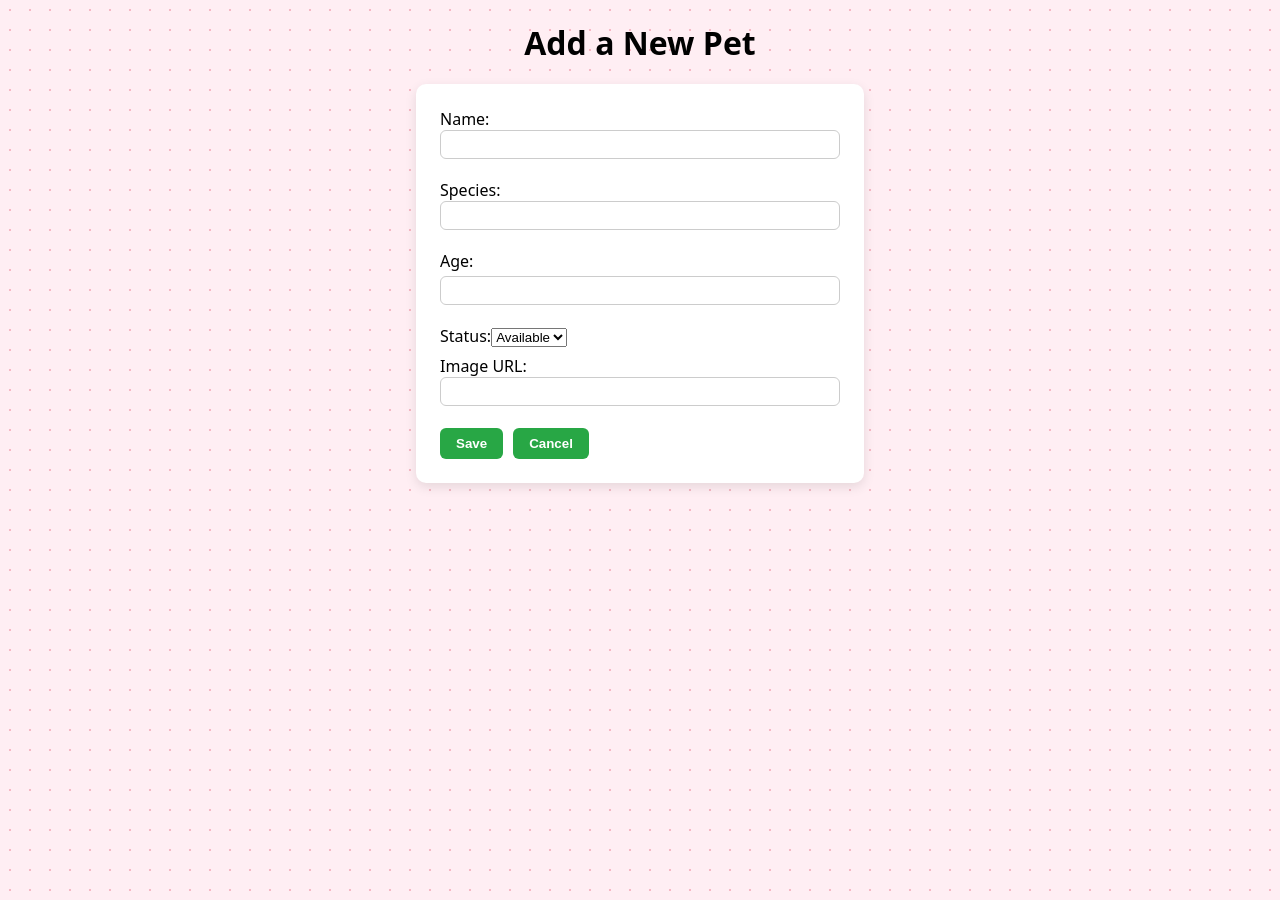
it: AddEditPet Component › shows error when required name field is empty
# Leave name empty
In the field labelled "Species:": (640, 216) top-left (440, 201), bottom-right (840, 230), type "Dog"
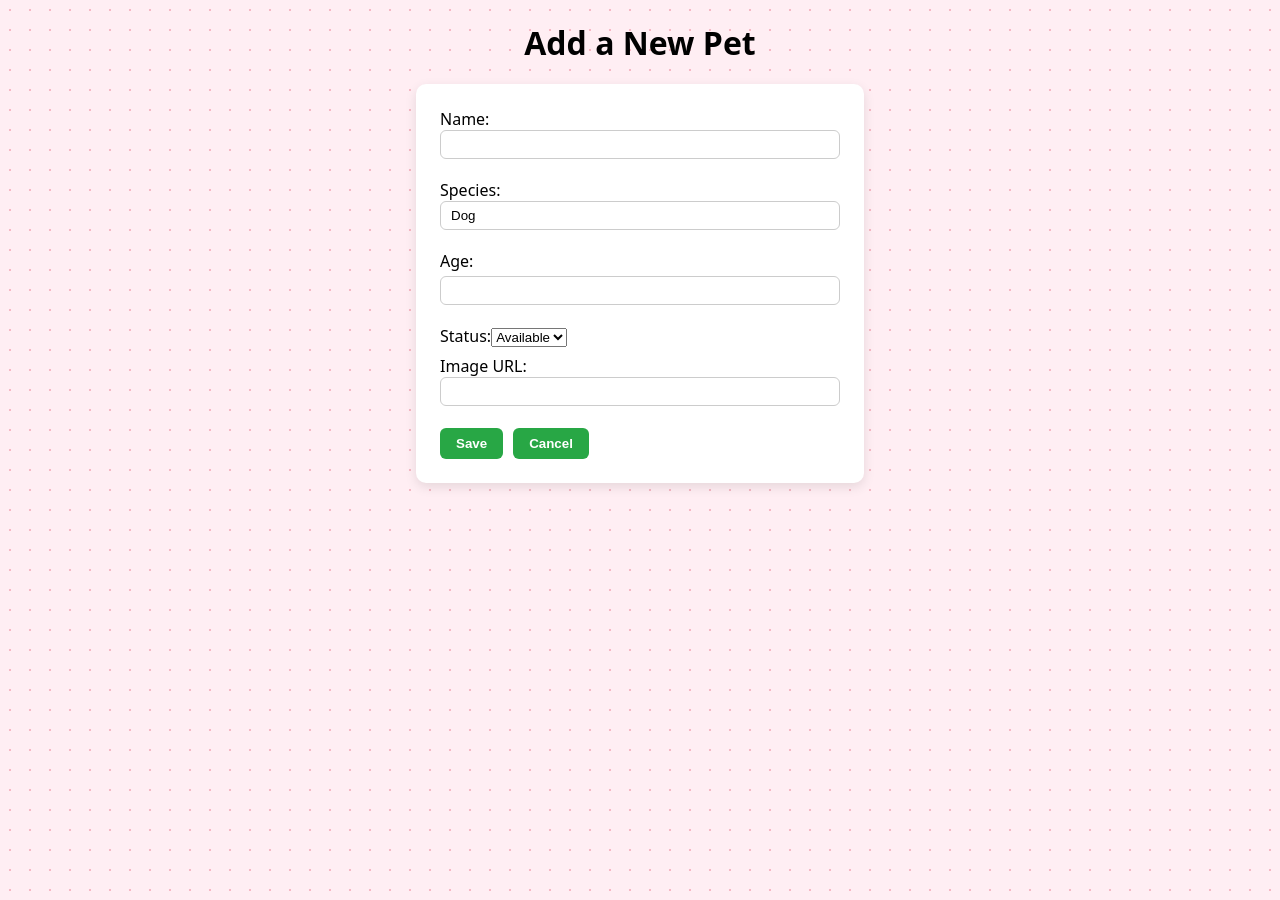
In the number field labelled "Age:": (640, 291) top-left (440, 276), bottom-right (840, 305), type "4"
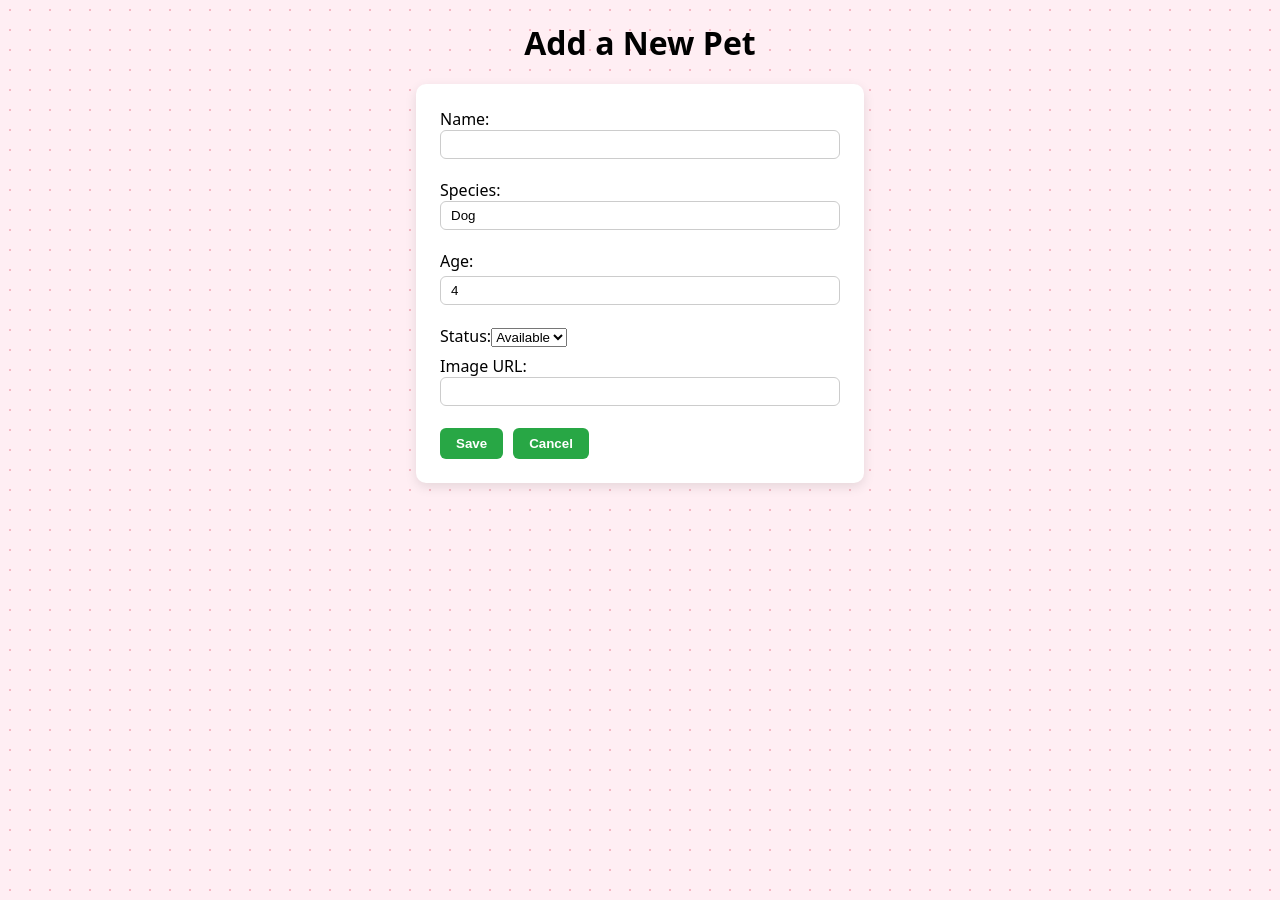
Select "Available" in the dropdown labelled "Status:": (529, 338) top-left (491, 328), bottom-right (567, 347)
In the field labelled "Image URL:": (640, 392) top-left (440, 377), bottom-right (840, 406), type "https://example.com/max.jpg"
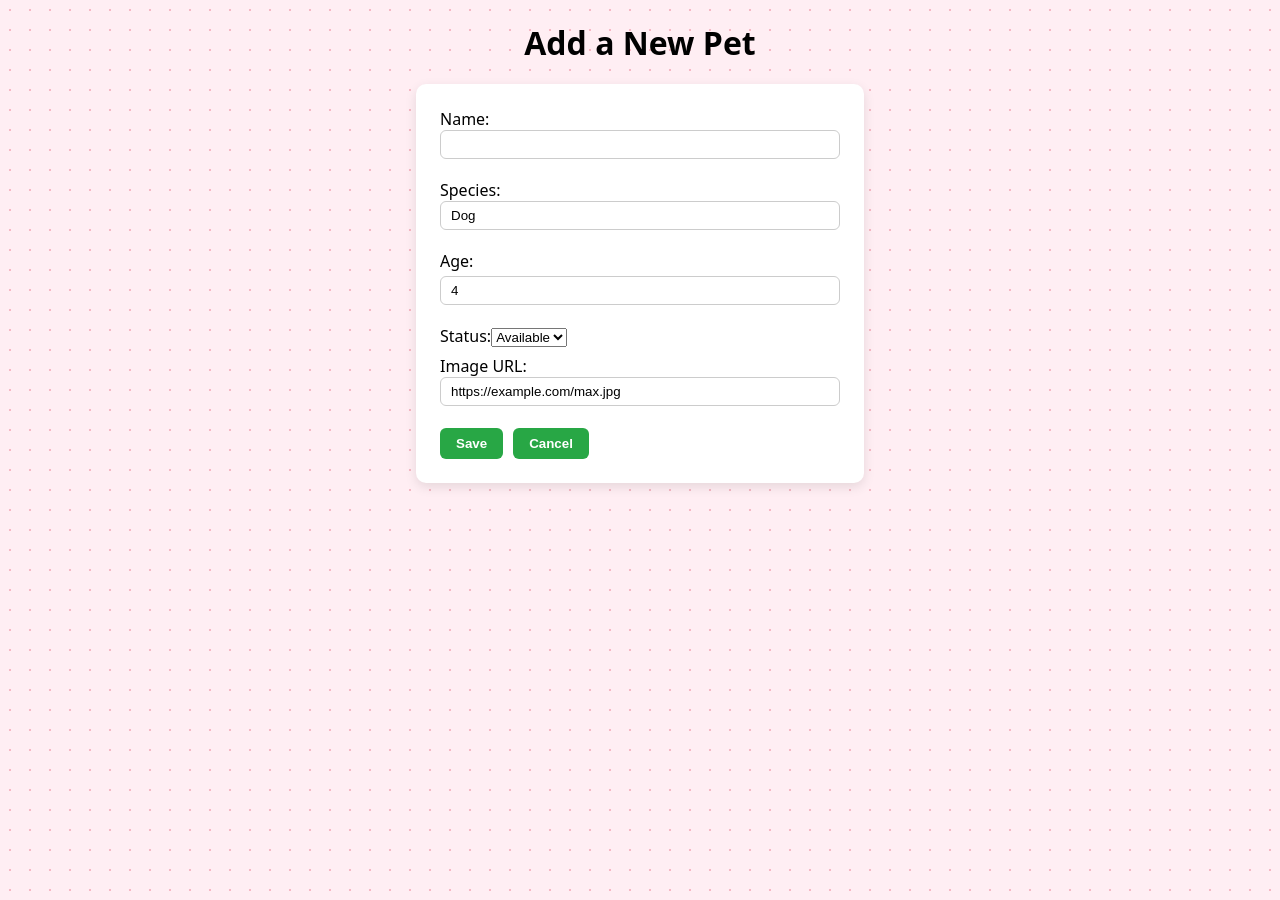
Click the button "Save": (472, 444) top-left (440, 428), bottom-right (503, 459)
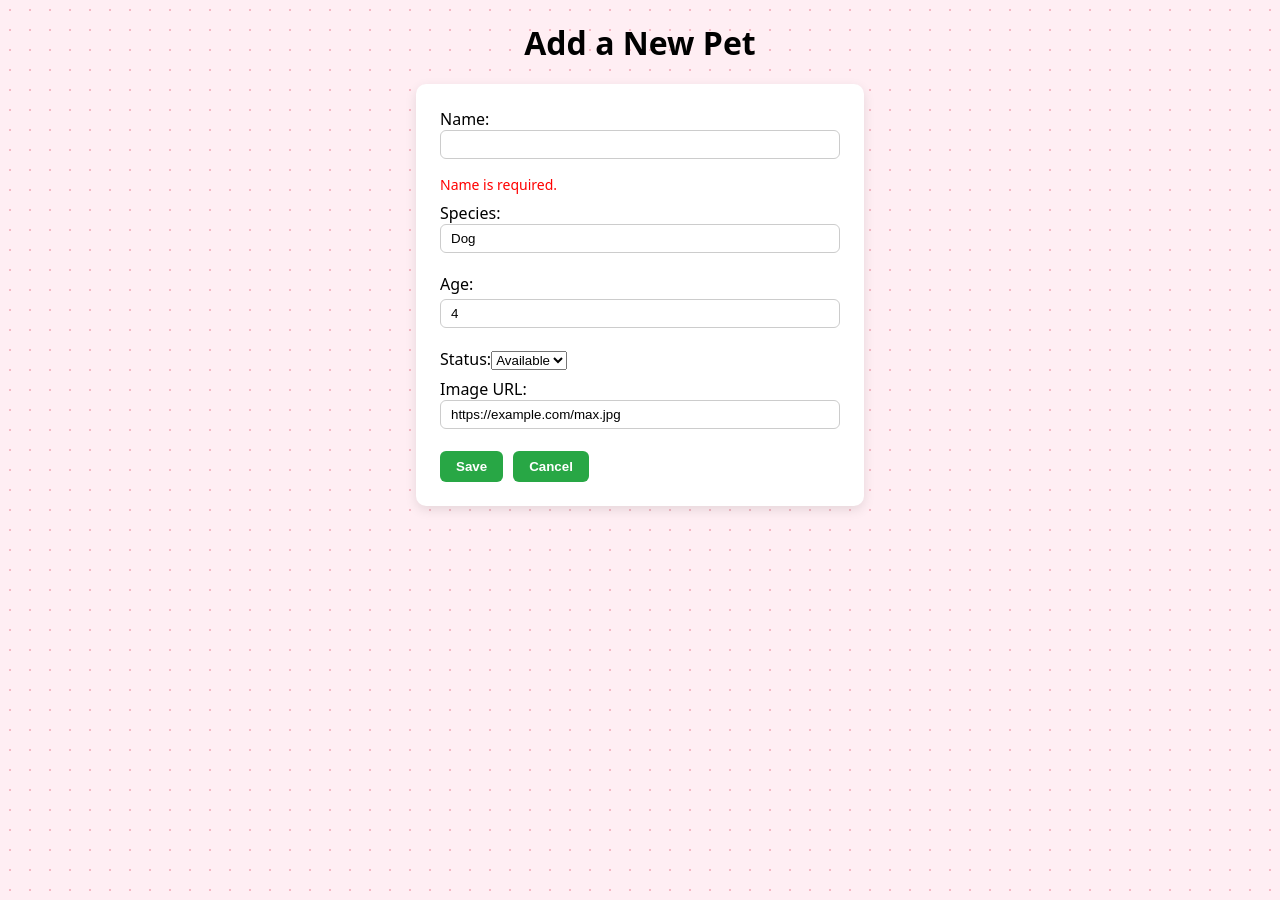
expect the text "Name is required." is shown: met, box top-left (440, 175), bottom-right (557, 194)
